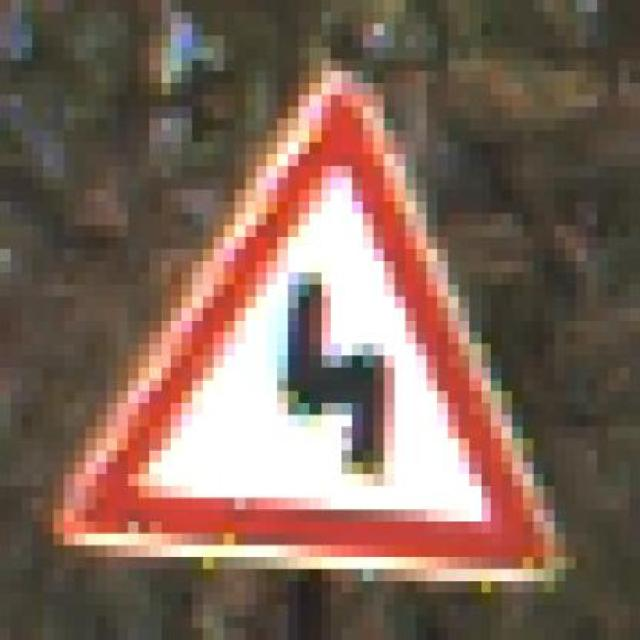Left Zig Zag Traffic: (42, 48, 587, 604)
